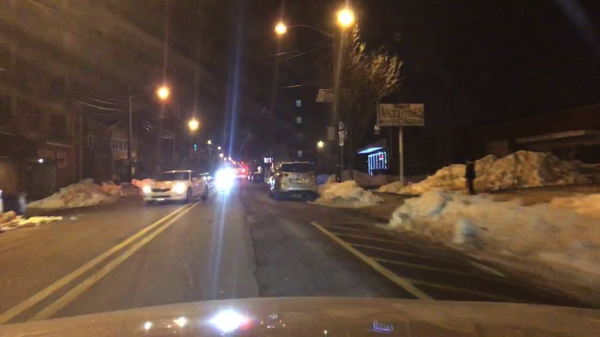car: (146, 168, 209, 206), (266, 162, 319, 203), (217, 167, 235, 184), (251, 173, 264, 183), (247, 171, 252, 182)
person: (463, 158, 477, 195)
traffic sign: (338, 132, 345, 149), (338, 121, 345, 130)
